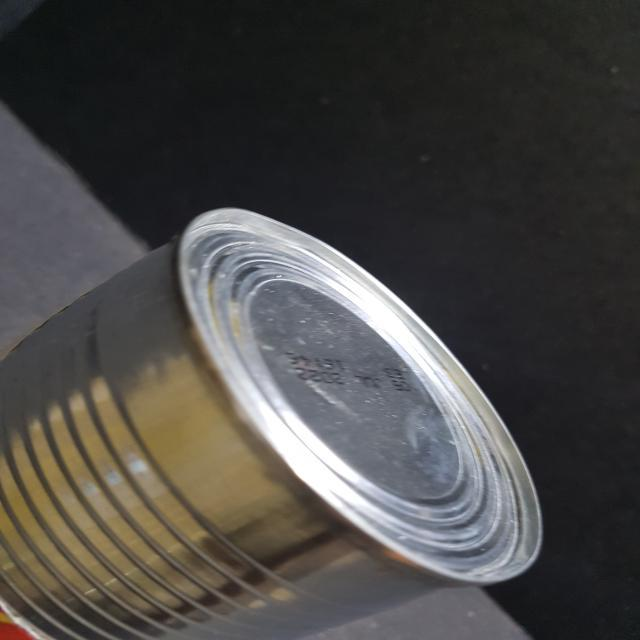metal-can: (0, 201, 548, 640)
